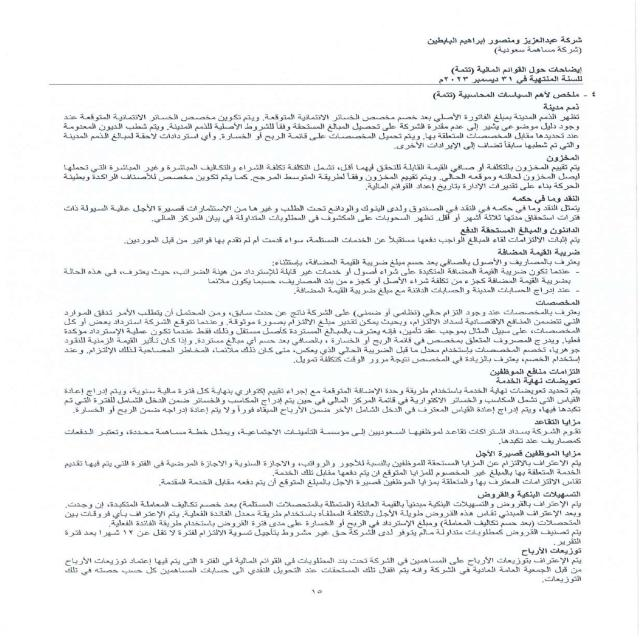notes: (444, 66, 588, 74)
text: (51, 85, 606, 598)
